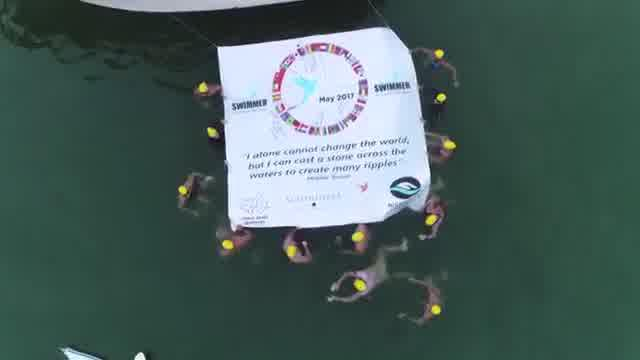human: (321, 252, 397, 310), (408, 44, 464, 90), (403, 279, 446, 331), (170, 172, 208, 218), (418, 192, 451, 243), (280, 222, 318, 266), (210, 221, 254, 258), (332, 220, 374, 258), (422, 131, 456, 163), (192, 80, 228, 104)
